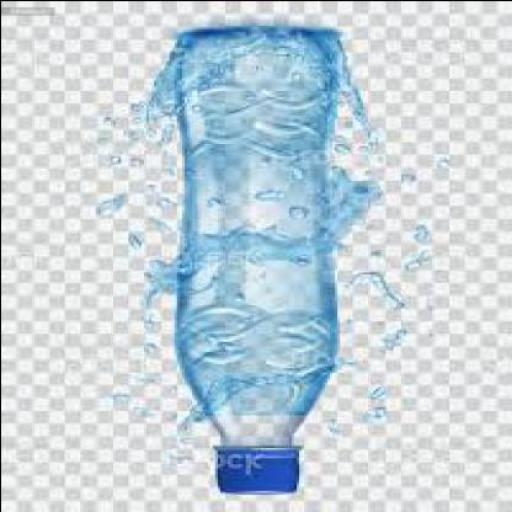plastic: (171, 31, 339, 496), (212, 444, 298, 494)
